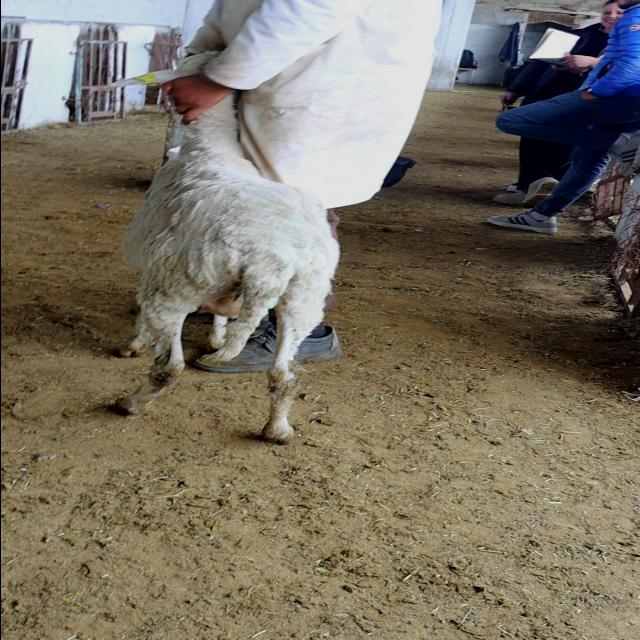Score_3: (116, 91, 338, 444)
